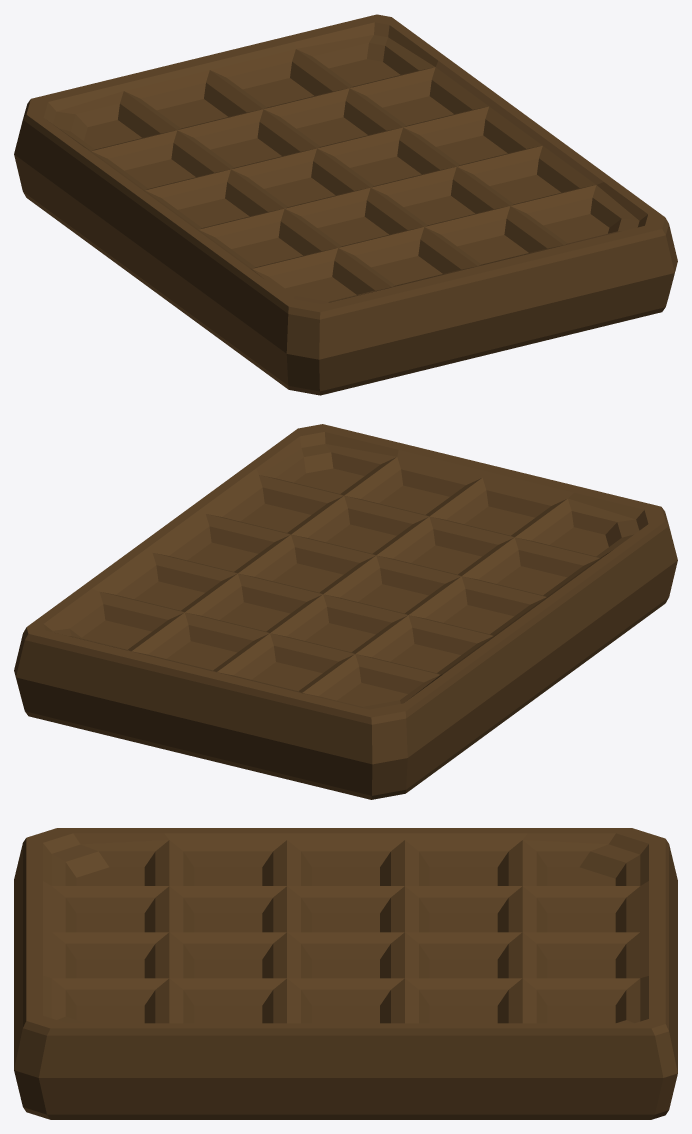
Rendered from Waffle.obj.
3 renders of one model, top to bottom at view 1: azimuth 30°, elevation 25°; view 2: azimuth 150°, elevation 25°; view 3: azimuth 270°, elevation 25°, orthographic. The views are drawn at different scales.
Visible parts, largest first — view 1: Waffle_Cube.050; view 2: Waffle_Cube.050; view 3: Waffle_Cube.050.
Part boxes in pixels (x1,y1,x2,y2): Waffle_Cube.050: (14,14,677,395); Waffle_Cube.050: (14,424,677,799); Waffle_Cube.050: (14,828,677,1119).
Bounding box in the file's own units: 1.13 × 0.2322 × 1.53.
